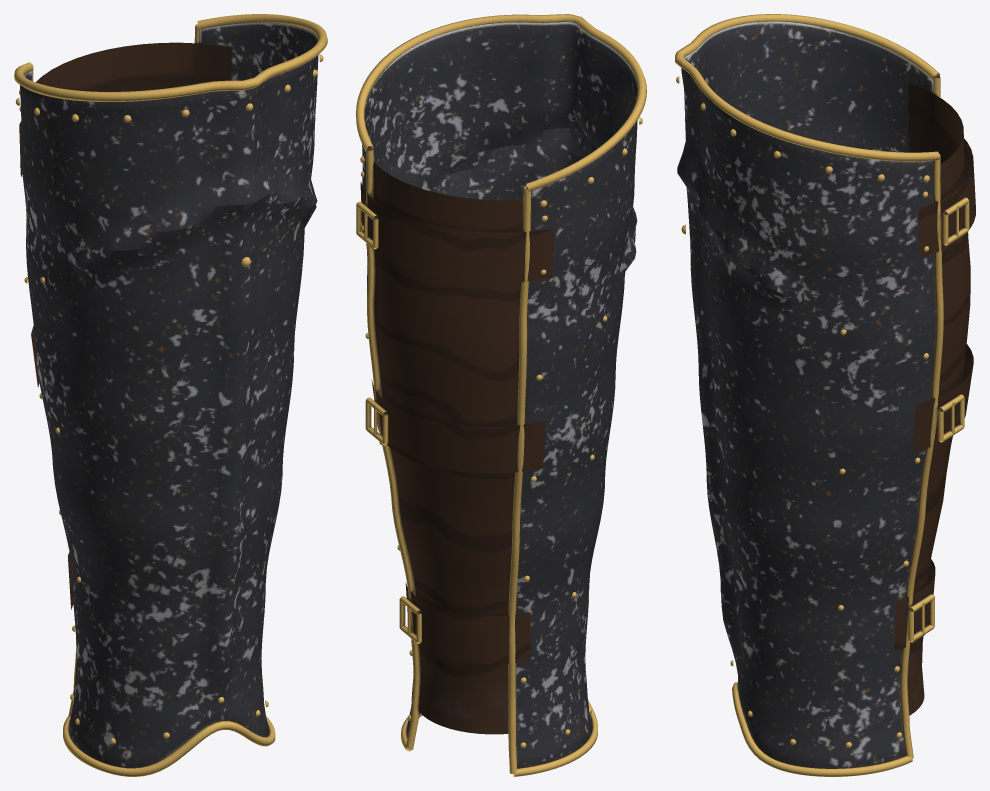
Rendered from SM_EagleGreaves_L.fbx.
The picture shows the model from 3 angles, left to right: view 1: azimuth 30°, elevation 25°; view 2: azimuth 150°, elevation 25°; view 3: azimuth 270°, elevation 25°; orthographic projection. The views are drawn at different scales.
Parts seen in each view (by area): view 1: SM_EagleGreaves_L; view 2: SM_EagleGreaves_L; view 3: SM_EagleGreaves_L.
Boxes of the visible parts, <box> form: SM_EagleGreaves_L: <box>14,14,327,776</box>; SM_EagleGreaves_L: <box>356,14,646,776</box>; SM_EagleGreaves_L: <box>675,14,975,776</box>.
Bounding box in the file's own units: 0.1492 × 0.3744 × 0.1497.
